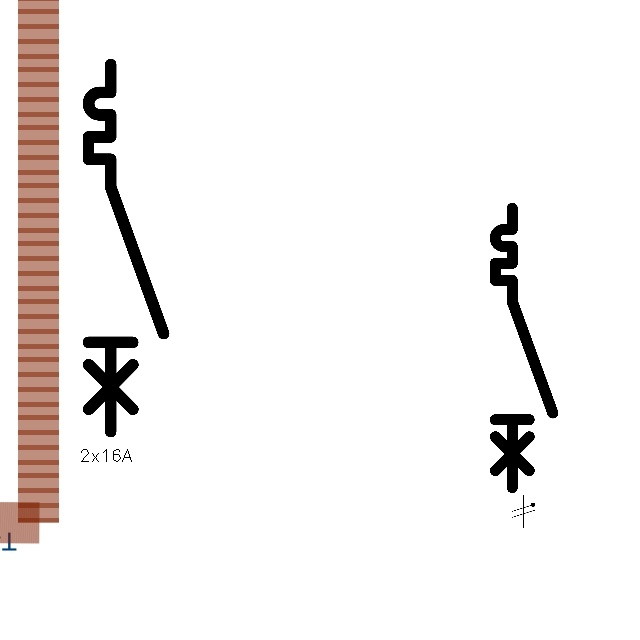interruptor_termomagnetico: (79, 55, 173, 441), (488, 201, 560, 495)
